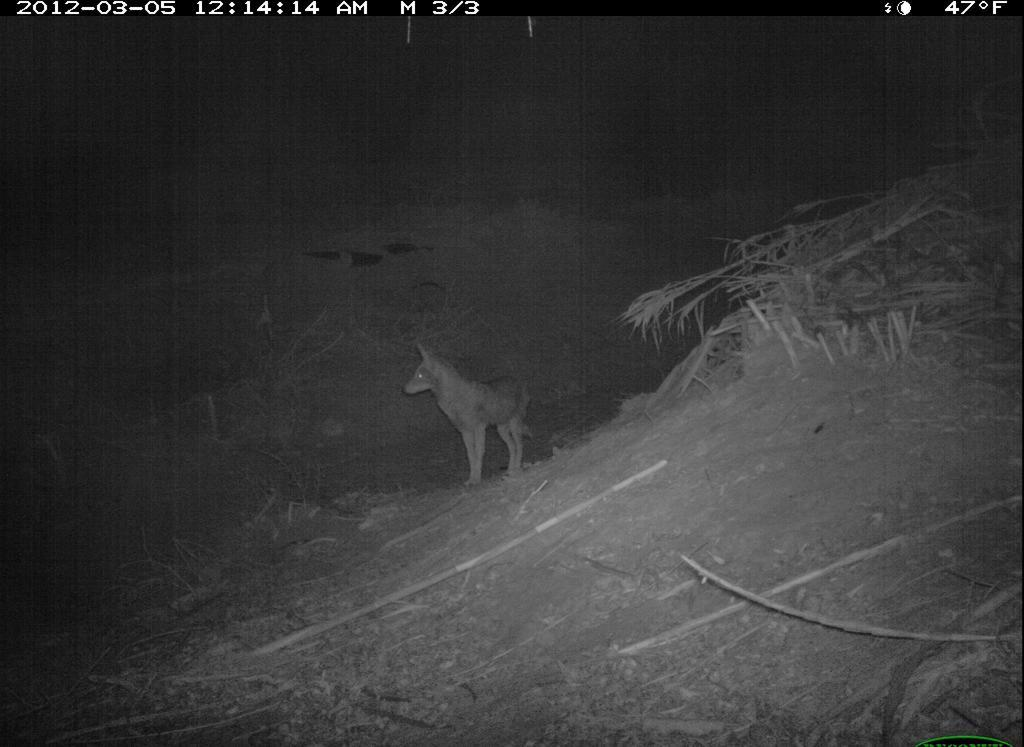coyote: (390, 319, 542, 506)
